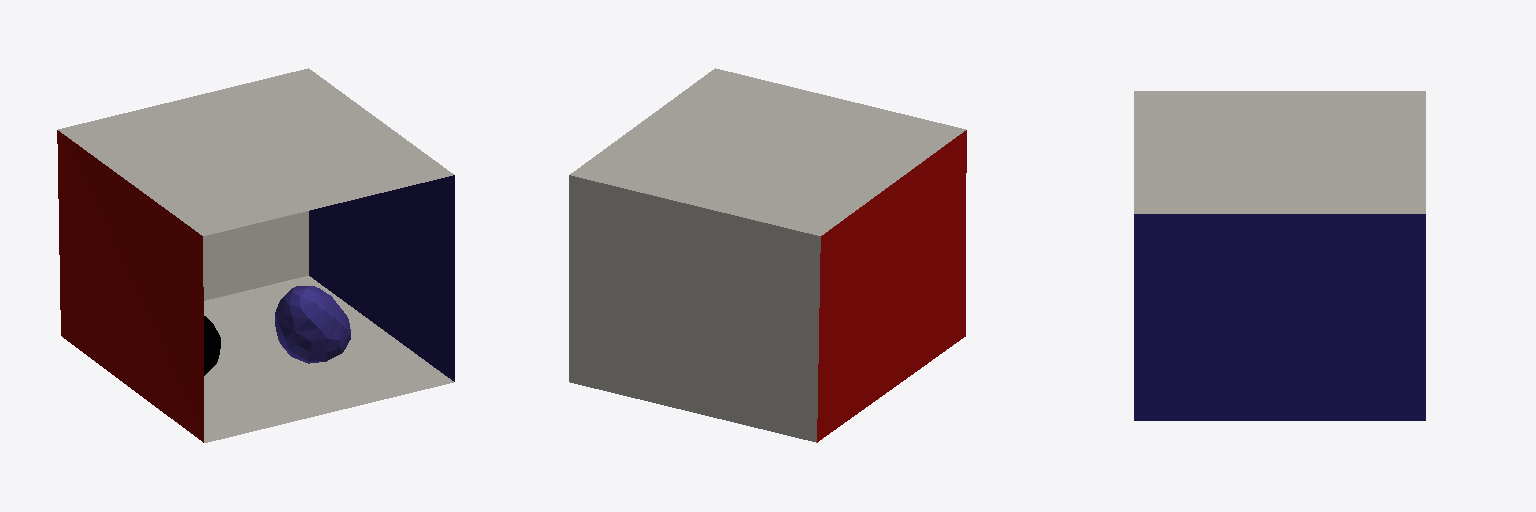
Rendered from CornellBox-Ellipsoid-459.obj.
3 views of the same model, side by side, from view 1: azimuth 30°, elevation 25°; view 2: azimuth 150°, elevation 25°; view 3: azimuth 270°, elevation 25° (orthographic).
Parts seen in each view (by area): view 1: ceiling, leftWall, floor, rightWall, backWall, leftSphere, rightSphere; view 2: backWall, ceiling, leftWall; view 3: rightWall, ceiling.
Boxes of the visible parts, box(x1,y1,x2,y2) form: ceiling: box(58, 68, 453, 235); leftWall: box(57, 130, 203, 442); floor: box(204, 276, 453, 442); rightWall: box(309, 175, 454, 381); backWall: box(203, 211, 308, 300); leftSphere: box(275, 286, 350, 363); rightSphere: box(204, 316, 220, 375); backWall: box(569, 175, 820, 442); ceiling: box(570, 68, 965, 235); leftWall: box(817, 130, 966, 442); rightWall: box(1134, 214, 1425, 420); ceiling: box(1134, 91, 1425, 213).
Bounding box in the file's own units: 2.02 × 1.59 × 2.03.